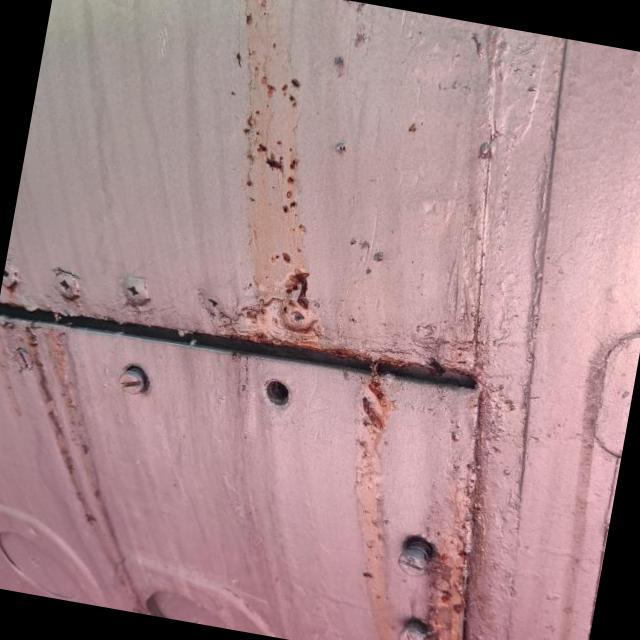Fastener Damage: (234, 348, 315, 429)
